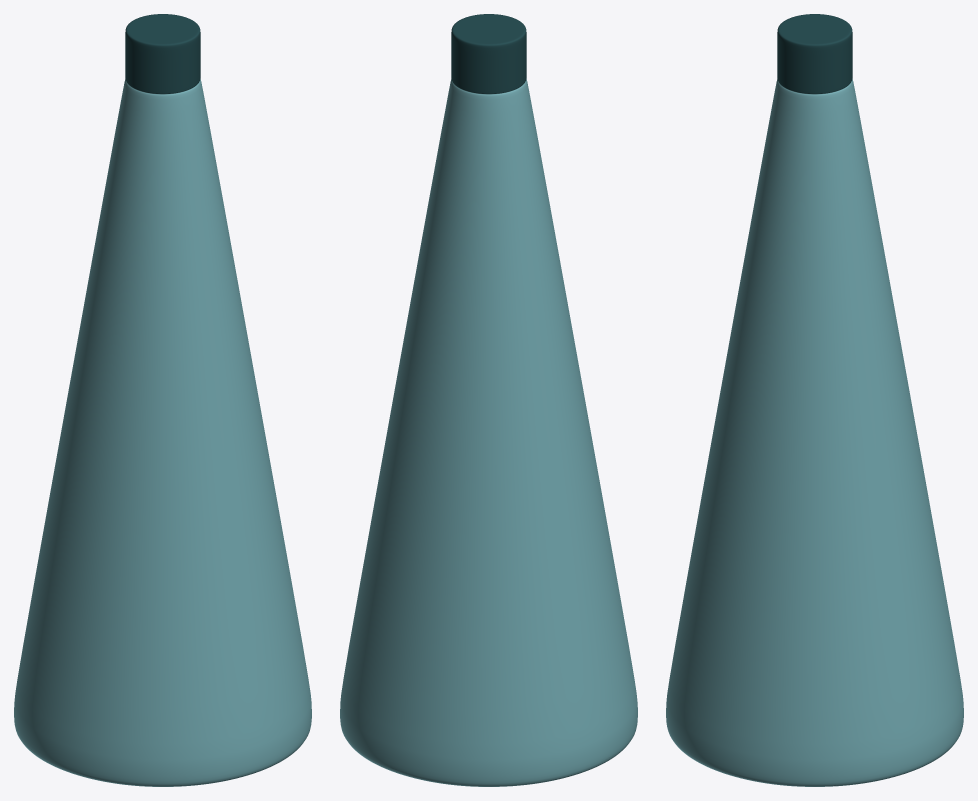
Rendered from uploads_files_3279091_Plastic_Bottle_1.fbx.
The picture shows the model from 3 angles, left to right: view 1: azimuth 30°, elevation 25°; view 2: azimuth 150°, elevation 25°; view 3: azimuth 270°, elevation 25°; orthographic projection.
Visible parts, largest first — view 1: Bottle_1; view 2: Bottle_1; view 3: Bottle_1.
Part boxes in pixels (x1=…): Bottle_1: x1=14, y1=14, x2=311, y2=786; Bottle_1: x1=340, y1=14, x2=637, y2=786; Bottle_1: x1=666, y1=14, x2=963, y2=786.
Size of the model in its own units: 255 by 657 by 255.
Materials: 2 (2 with a texture image).
